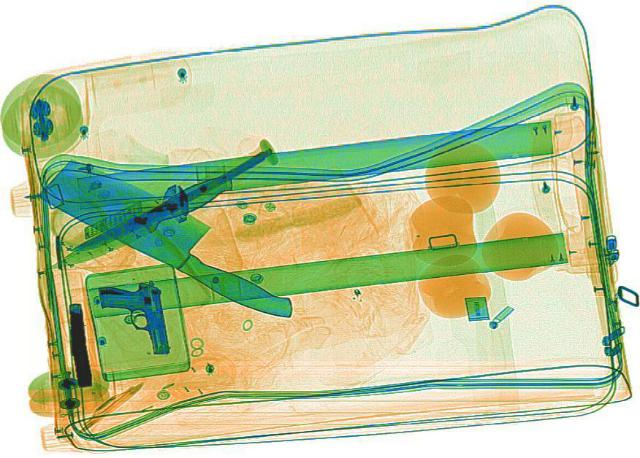Gun: (96, 278, 170, 357), (60, 301, 92, 384)
Knife: (25, 153, 329, 323), (64, 147, 276, 255), (32, 168, 240, 276)
